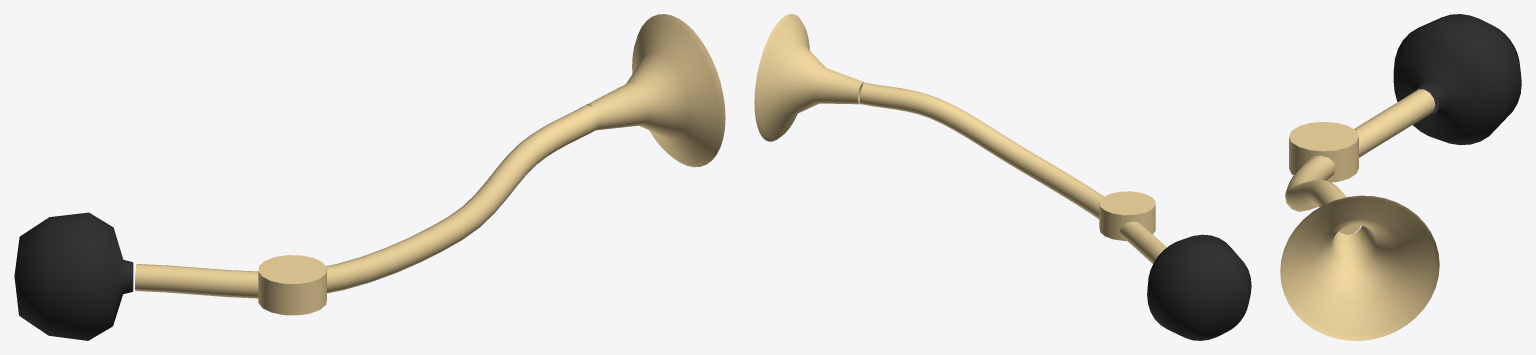
The model's file is bike_vintage_vtwin__horn.glb.
3 views of the same model, side by side, from view 1: azimuth 30°, elevation 25°; view 2: azimuth 150°, elevation 25°; view 3: azimuth 270°, elevation 25° (orthographic). The views are drawn at different scales.
Parts seen in each view (by area): view 1: electrical__horn, electrical__horn__bulb; view 2: electrical__horn, electrical__horn__bulb; view 3: electrical__horn, electrical__horn__bulb.
Part boxes in pixels (left/top/right/bottom): electrical__horn: left=135, top=14, right=725, bottom=315; electrical__horn__bulb: left=14, top=212, right=133, bottom=340; electrical__horn: left=754, top=14, right=1166, bottom=263; electrical__horn__bulb: left=1147, top=234, right=1251, bottom=340; electrical__horn: left=1280, top=89, right=1439, bottom=340; electrical__horn__bulb: left=1393, top=14, right=1521, bottom=145.
Size of the model in its own units: 29.05 by 9.6 by 9.64.
